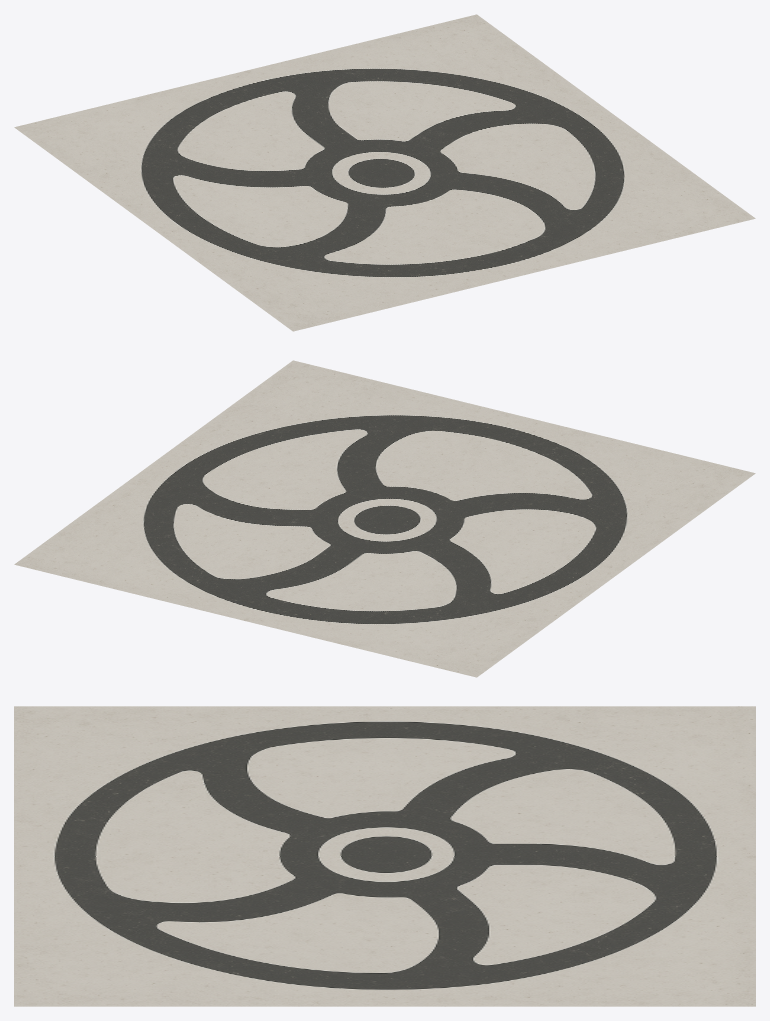
Rendered from kaitenyuka2.fbx.
3 views of the same model, one above another, from view 1: azimuth 30°, elevation 25°; view 2: azimuth 150°, elevation 25°; view 3: azimuth 270°, elevation 25° (orthographic). The views are drawn at different scales.
Visible parts, largest first — view 1: Plane001; view 2: Plane001; view 3: Plane001.
Part boxes in pixels (bbox=[...]): Plane001: bbox=[14, 14, 755, 331]; Plane001: bbox=[14, 360, 755, 677]; Plane001: bbox=[14, 706, 755, 1006].
Bounding box in the file's own units: 139 × 8.89e-15 × 145.
Materials: 1 (1 with a texture image).
